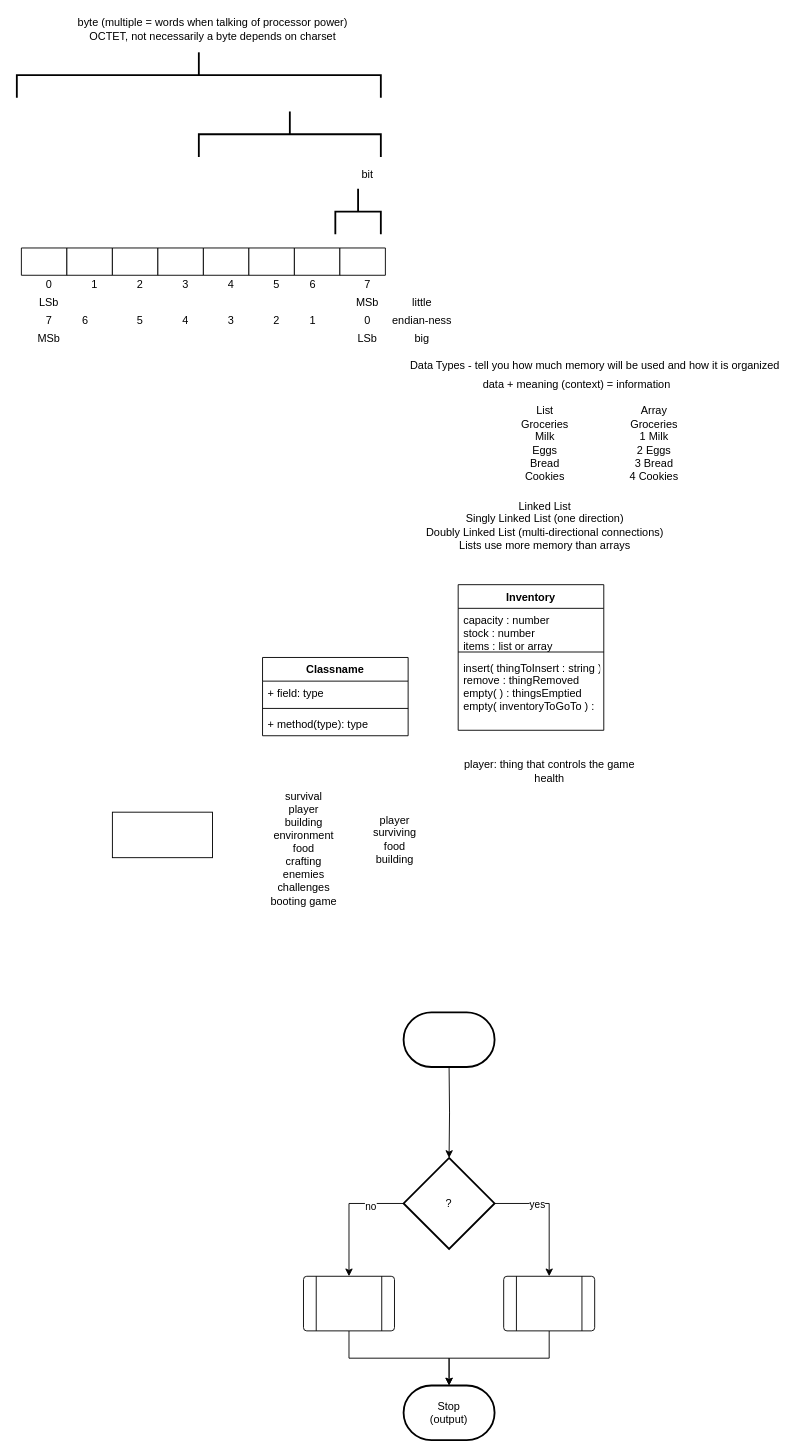
Image size: 801x1456. Some labels were removed from this diagram. Here are the shapes that lost their labels. From the top down, the centre of each, then its label:
At (289,133): "nibble".
At (161,834): "general rectangle".
At (448,1039): "Start (input)".
